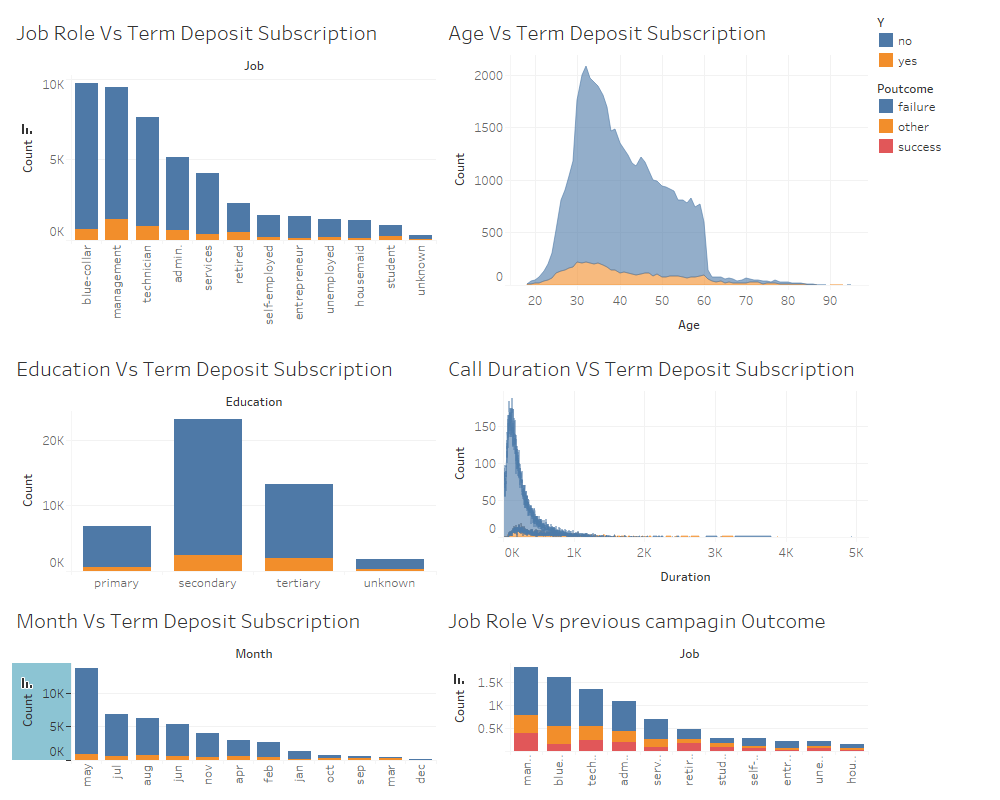

The page's visual inventory and layout, read from the dashboard file:
{"tool":"tableau","page":{"name":"Dashboard 2","canvas":[1000,800],"ordinal":1},"visuals":[{"type":"worksheet","title":"Job Role Vs Term Deposit Subscription","mark":"Automatic","rows":["Banking.csv_26F0FF85DB4F44FB8A82EA5AAB9FB84B"],"cols":["job"],"box":[8,8,432,336]},{"type":"worksheet","title":"Age Vs Term Deposit Subscription","mark":"Area","rows":["Banking.csv_26F0FF85DB4F44FB8A82EA5AAB9FB84B"],"cols":["age"],"box":[440,8,432,336]},{"type":"legend","title":"Job Role Vs Term Deposit Subscription","param":"[federated.07ahi2t05l2nlp165roit171fumc].[none:y:nk]","box":[872,8,120,66]},{"type":"legend","title":"Job Role Vs previous campagin Outcome","param":"[federated.07ahi2t05l2nlp165roit171fumc].[none:poutcome:nk]","box":[872,74,120,86]},{"type":"worksheet","title":"Education Vs Term Deposit Subscription","mark":"Automatic","rows":["Banking.csv_26F0FF85DB4F44FB8A82EA5AAB9FB84B"],"cols":["education"],"box":[8,344,432,252]},{"type":"worksheet","title":"Call Duration VS Term Deposit Subscription","mark":"Area","rows":["Banking.csv_26F0FF85DB4F44FB8A82EA5AAB9FB84B"],"cols":["duration"],"box":[440,344,432,252]},{"type":"worksheet","title":"Month Vs Term Deposit Subscription","mark":"Automatic","rows":["Banking.csv_26F0FF85DB4F44FB8A82EA5AAB9FB84B"],"cols":["month"],"box":[8,596,432,196]},{"type":"worksheet","title":"Job Role Vs previous campagin Outcome","mark":"Automatic","rows":["Banking.csv_26F0FF85DB4F44FB8A82EA5AAB9FB84B"],"cols":["job"],"box":[440,596,432,196]}]}

Visuals, with their boxes in screenshot pixels (x1, y1, x2, y2), scaled from the page's 1000x800 canvas onto the 1000x800 screenshot:
"Job Role Vs Term Deposit Subscription" worksheet: 8,8,440,344
"Age Vs Term Deposit Subscription" worksheet (Area marks): 440,8,872,344
"Job Role Vs Term Deposit Subscription" legend: 872,8,992,74
"Job Role Vs previous campagin Outcome" legend: 872,74,992,160
"Education Vs Term Deposit Subscription" worksheet: 8,344,440,596
"Call Duration VS Term Deposit Subscription" worksheet (Area marks): 440,344,872,596
"Month Vs Term Deposit Subscription" worksheet: 8,596,440,792
"Job Role Vs previous campagin Outcome" worksheet: 440,596,872,792
